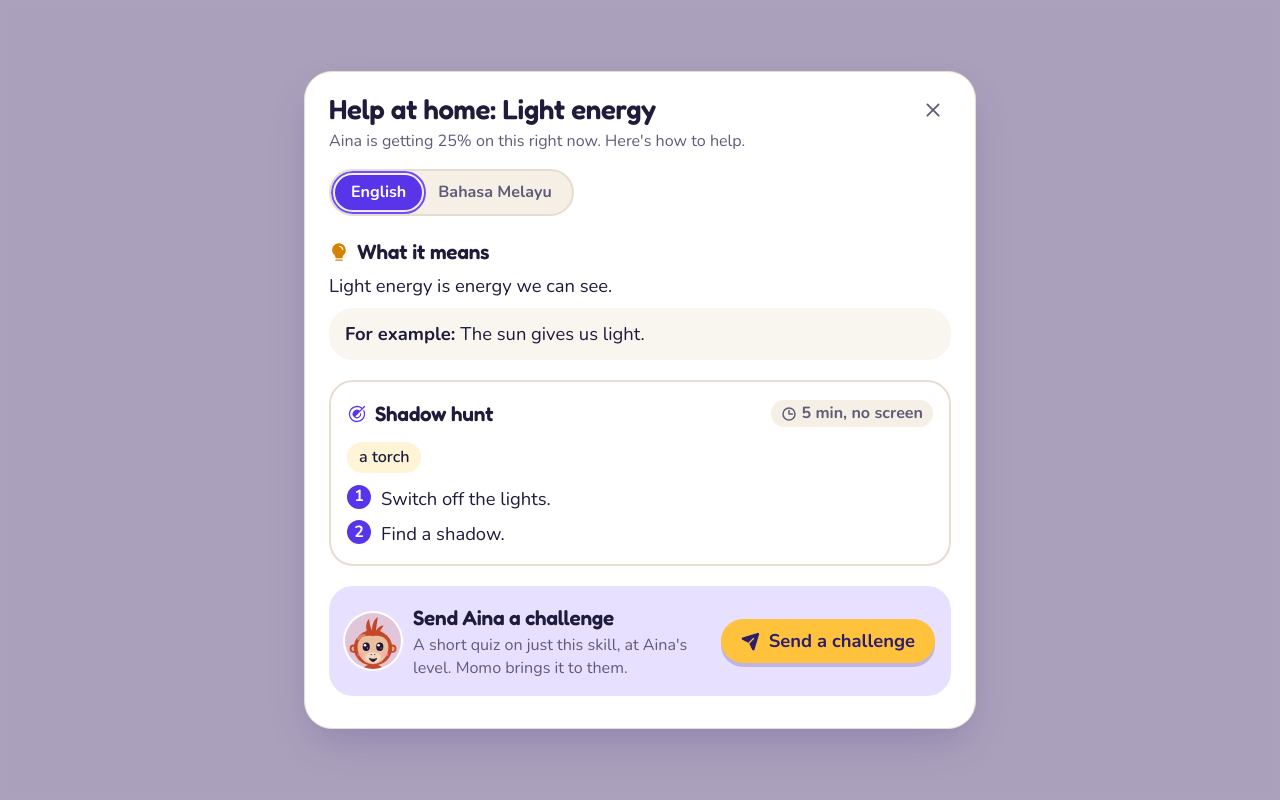
help at home (§28.3.3) › sends a challenge the buddy brings, once
The width and height of the screenshot is (1280, 800).
Click the button "Send a challenge" at (828, 641), box [721, 619, 935, 663]
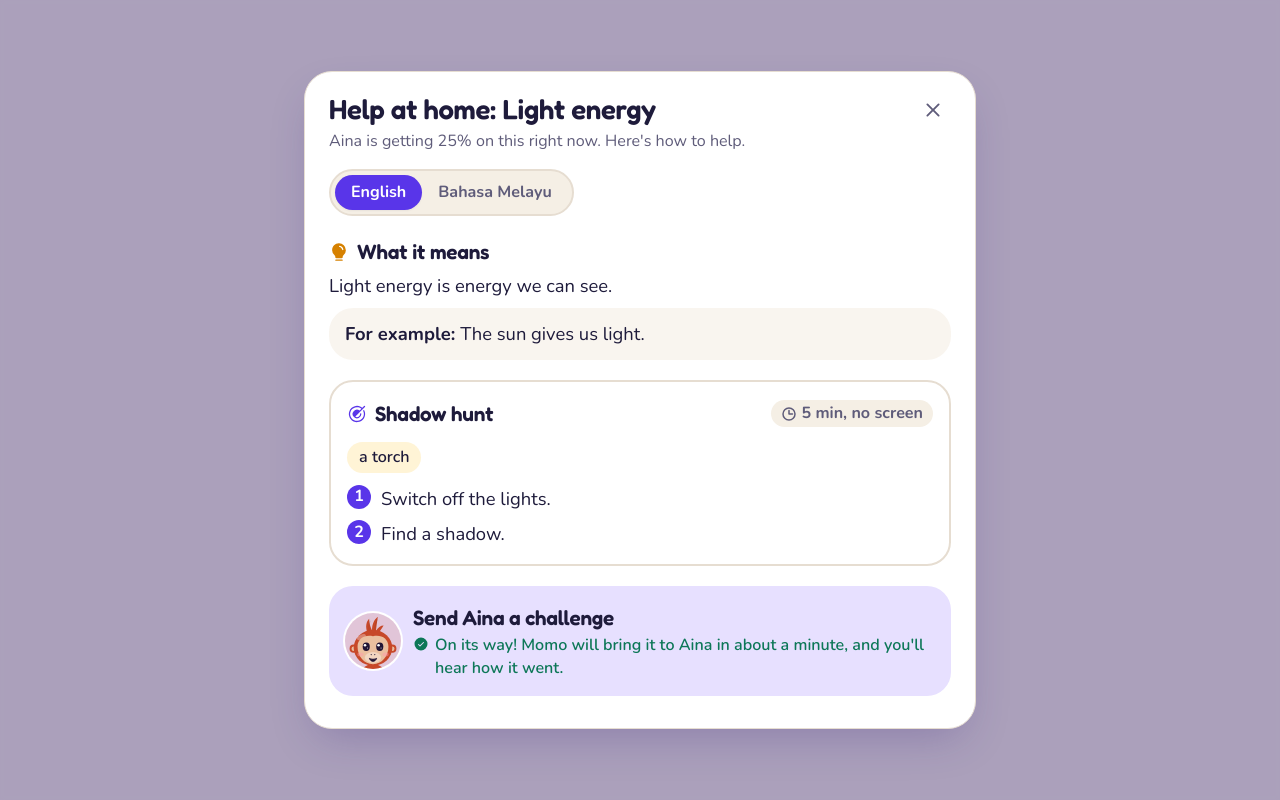
Expected: the text "On its way! Momo will bring it to Aina" is shown, [413, 634, 935, 680]
Expected: the button "Send a challenge" is gone
